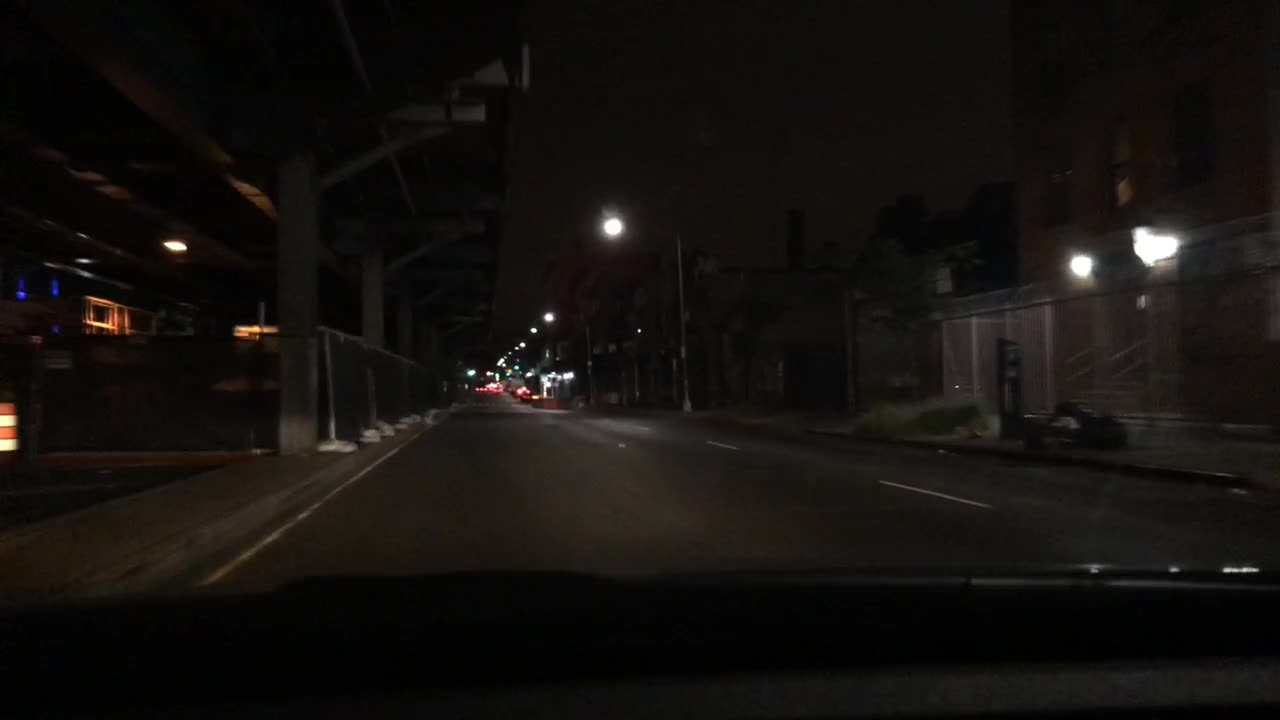car: (520, 389, 537, 402), (512, 384, 528, 396), (502, 380, 514, 392), (490, 382, 502, 391), (472, 384, 487, 390)
traffic light: (466, 369, 472, 376), (514, 364, 520, 370), (494, 371, 498, 377), (504, 372, 510, 375)
